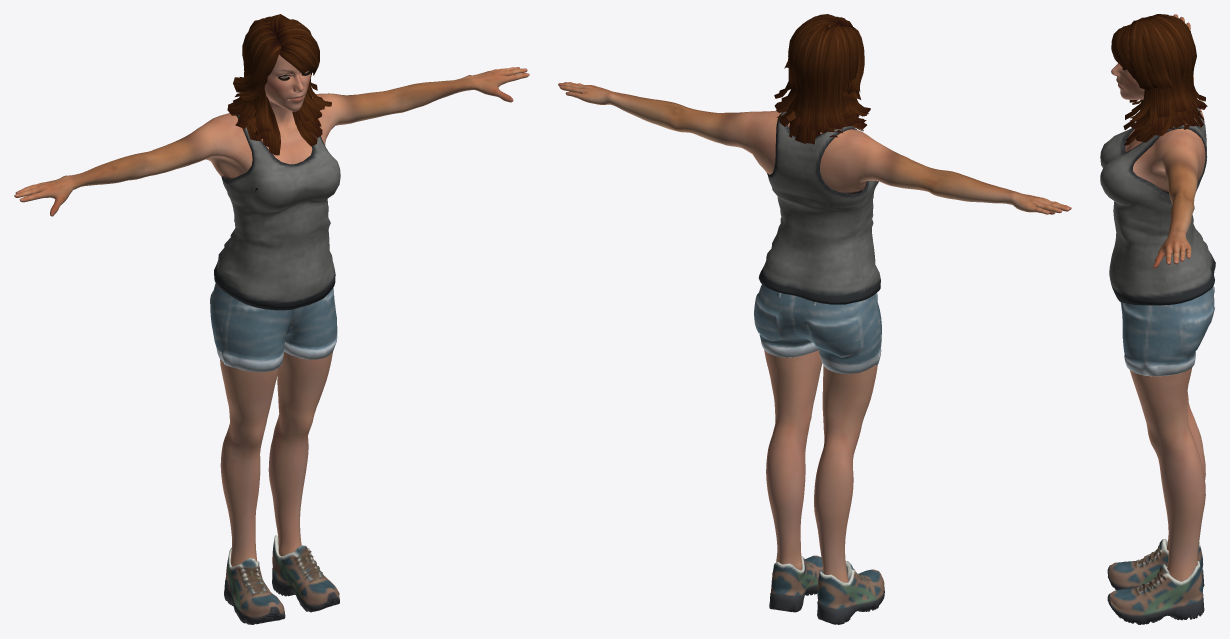
File: female 1.obj
The picture shows the model from 3 angles, left to right: view 1: azimuth 30°, elevation 25°; view 2: azimuth 150°, elevation 25°; view 3: azimuth 270°, elevation 25°; orthographic projection.
Parts seen in each view (by area): view 1: Body, Tops, Bottoms, Hair, Shoes; view 2: Body, Tops, Hair, Bottoms, Shoes; view 3: Body, Tops, Hair, Bottoms, Shoes.
Boxes of the visible parts, box(x1,y1,x2,y2) form: Body: box(14, 37, 529, 566); Tops: box(214, 115, 340, 310); Bottoms: box(210, 283, 337, 372); Hair: box(227, 14, 331, 155); Shoes: box(224, 535, 339, 624); Body: box(558, 82, 1071, 582); Tops: box(758, 111, 880, 304); Hair: box(774, 14, 870, 144); Bottoms: box(754, 284, 881, 373); Shoes: box(769, 555, 884, 624); Body: box(1111, 14, 1205, 581); Tops: box(1100, 108, 1215, 305); Hair: box(1111, 14, 1207, 145); Bottoms: box(1120, 286, 1214, 376); Shoes: box(1107, 539, 1204, 624).
Bounding box in the file's own units: 166 × 182 × 32.52.
1 material, 1 textured.
